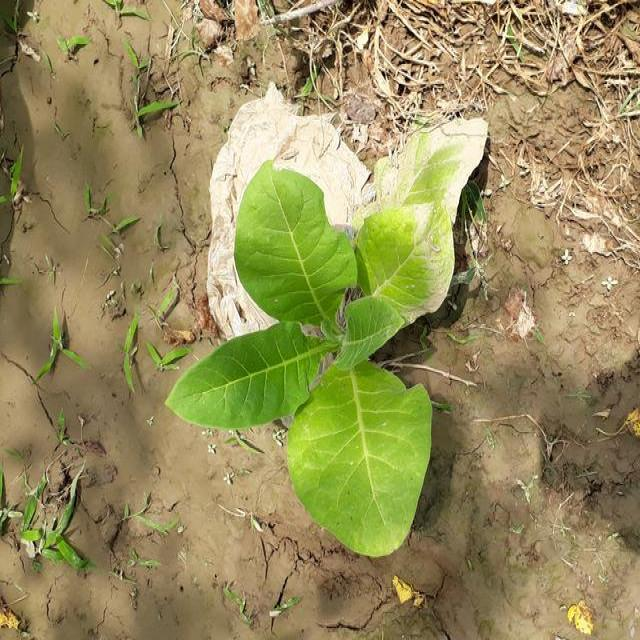crop: (166, 90, 480, 560)
